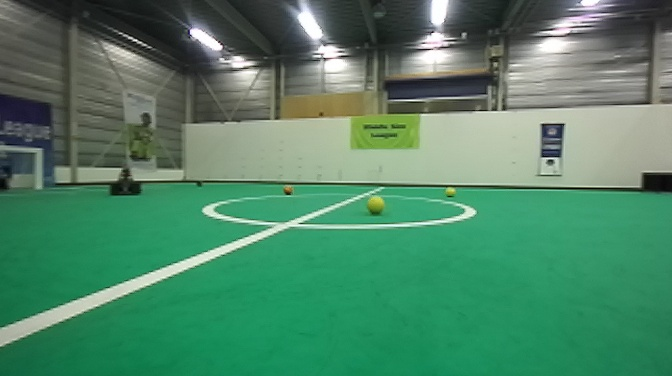ball: (365, 195, 386, 216), (444, 185, 457, 198), (281, 183, 295, 195)
robot: (105, 149, 144, 195)
